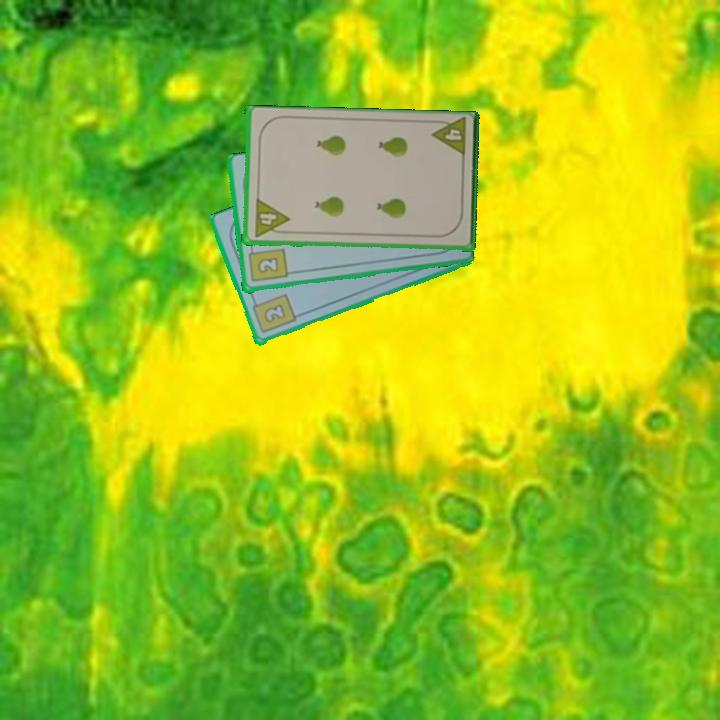2b: (249, 291, 298, 337), (244, 243, 290, 285)
4p: (250, 196, 291, 241), (428, 116, 469, 161)
